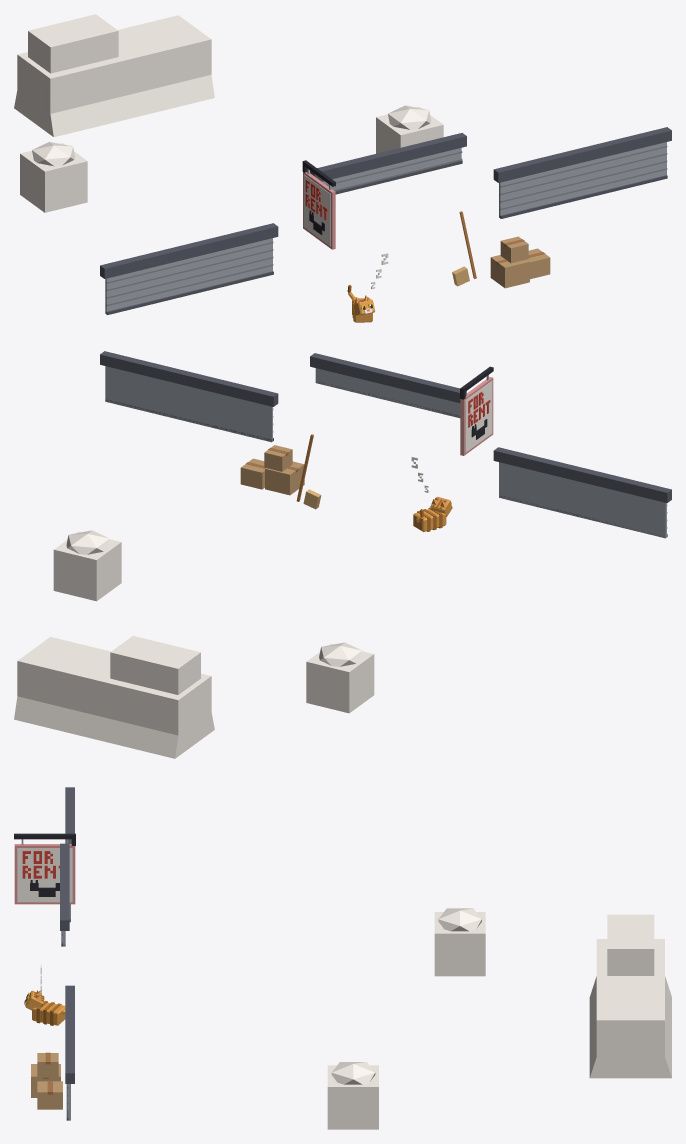
Rendered from CatCafe_Plot_ForRent.glb.
3 renders of one model, top to bottom at view 1: azimuth 30°, elevation 25°; view 2: azimuth 150°, elevation 25°; view 3: azimuth 270°, elevation 25°, orthographic. The views are drawn at different scales.
Visible parts, largest first — view 1: CatCafe_Plot_ForRent, CatCafe_Plot_ForRent_Shutter, CatCafe_Plot_ForRent_Sign; view 2: CatCafe_Plot_ForRent, CatCafe_Plot_ForRent_Shutter, CatCafe_Plot_ForRent_Sign; view 3: CatCafe_Plot_ForRent, CatCafe_Plot_ForRent_Sign, CatCafe_Plot_ForRent_Cat_Body.
Part boxes in pixels (x1,y1,x2,y2): CatCafe_Plot_ForRent: (14, 14, 671, 288); CatCafe_Plot_ForRent_Shutter: (105, 142, 667, 314); CatCafe_Plot_ForRent_Sign: (303, 174, 330, 246); CatCafe_Plot_ForRent: (14, 351, 671, 758); CatCafe_Plot_ForRent_Shutter: (105, 366, 667, 538); CatCafe_Plot_ForRent_Sign: (465, 381, 492, 452); CatCafe_Plot_ForRent: (14, 787, 671, 1129); CatCafe_Plot_ForRent_Sign: (17, 848, 72, 902); CatCafe_Plot_ForRent_Cat_Body: (32, 1000, 65, 1025).
Bounding box in the file's own units: 31.7 × 8.45 × 30.83.
1 material, 1 textured.
